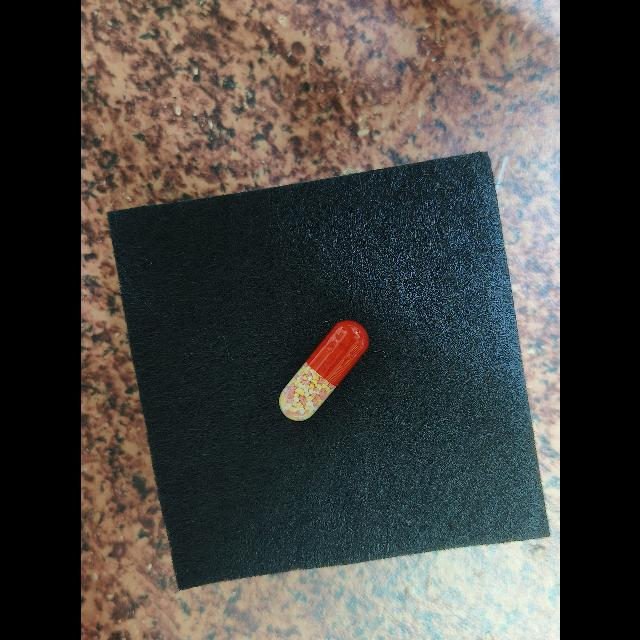Intact Capsule: (278, 320, 369, 421)
